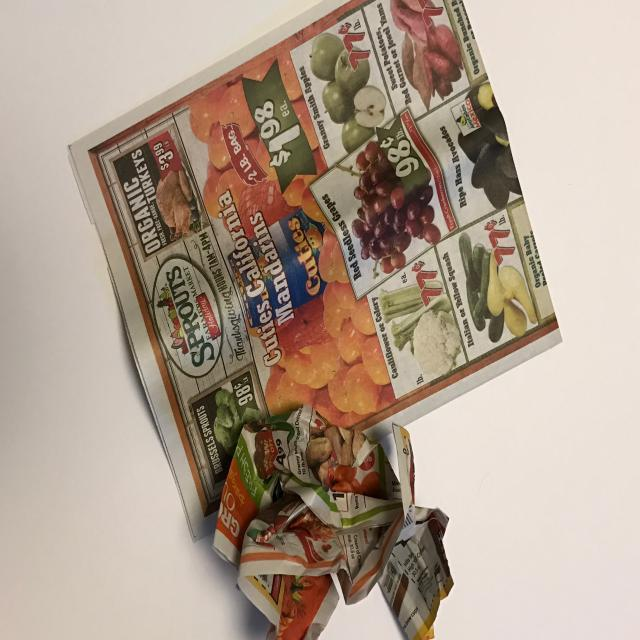paper: (55, 1, 562, 640)
